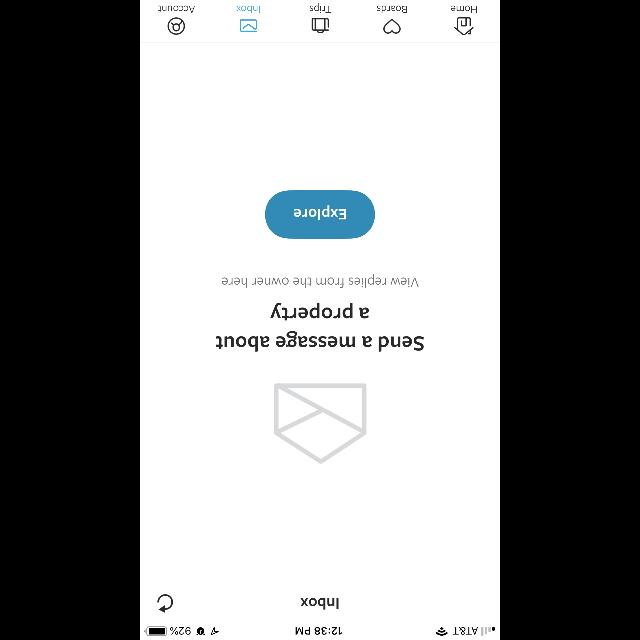icon: (453, 17, 472, 35), (168, 18, 185, 34), (384, 18, 401, 34), (312, 18, 328, 34), (158, 594, 172, 612), (240, 20, 256, 32)
image: (274, 382, 366, 463)
text: (216, 303, 424, 352), (222, 274, 418, 288), (300, 598, 338, 610), (377, 6, 407, 14), (158, 6, 195, 12), (310, 3, 330, 13), (237, 6, 260, 14), (451, 6, 477, 12)
textbutton: (266, 190, 374, 238)
uppertaskbar: (140, 626, 500, 640)
